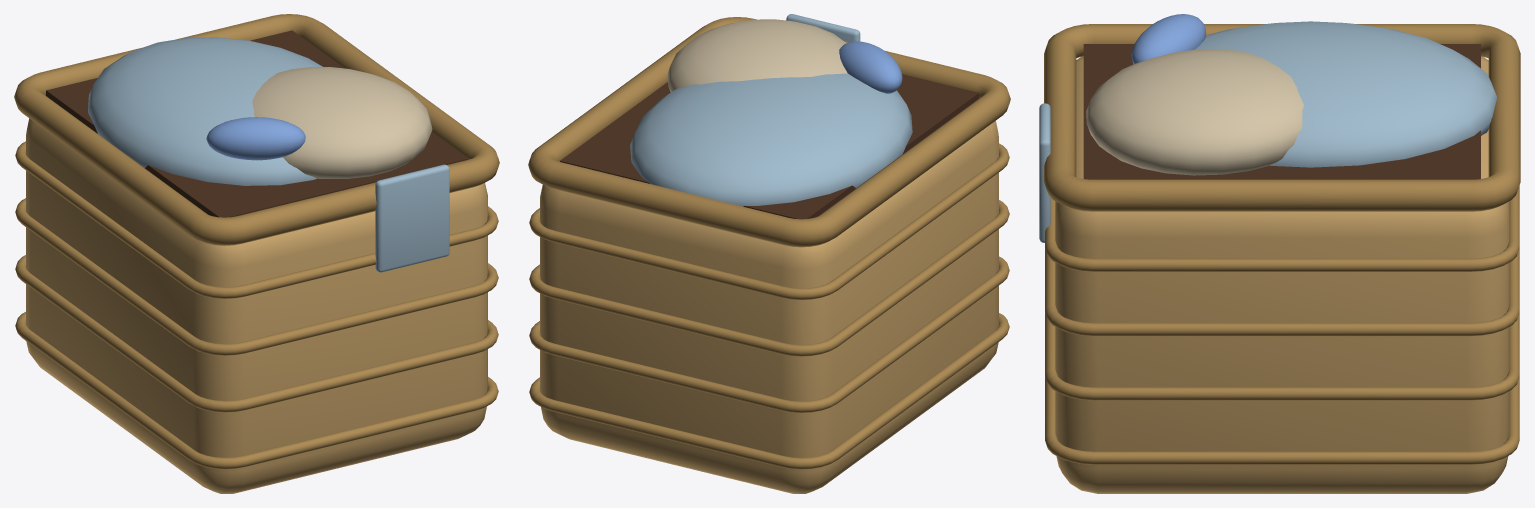
The model's file is laundry_basket.glb.
3 renders of one model, left to right at view 1: azimuth 30°, elevation 25°; view 2: azimuth 150°, elevation 25°; view 3: azimuth 270°, elevation 25°, orthographic. The views are drawn at different scales.
Visible parts, largest first — view 1: laundry_basket_body, laundry_basket_shirt, laundry_basket_rim, laundry_basket_towel, laundry_basket_inside, laundry_basket_sleeve, laundry_basket_rib.001, laundry_basket_rib.002, laundry_basket_rib, laundry_basket_rib.003, laundry_basket_sock; view 2: laundry_basket_body, laundry_basket_shirt, laundry_basket_rim, laundry_basket_towel, laundry_basket_inside, laundry_basket_rib, laundry_basket_rib.002, laundry_basket_rib.001, laundry_basket_rib.003, laundry_basket_sock, laundry_basket_sleeve; view 3: laundry_basket_body, laundry_basket_rim, laundry_basket_shirt, laundry_basket_towel, laundry_basket_inside, laundry_basket_rib, laundry_basket_rib.001, laundry_basket_rib.002, laundry_basket_rib.003, laundry_basket_sock, laundry_basket_sleeve.
Boxes of the visible parts, bbox=[...] form: laundry_basket_body: bbox=[26, 118, 487, 493]; laundry_basket_shirt: bbox=[88, 37, 322, 185]; laundry_basket_rim: bbox=[14, 14, 499, 245]; laundry_basket_towel: bbox=[252, 67, 432, 178]; laundry_basket_inside: bbox=[46, 30, 467, 217]; laundry_basket_sleeve: bbox=[375, 164, 449, 272]; laundry_basket_rib.001: bbox=[15, 255, 498, 412]; laundry_basket_rib.002: bbox=[15, 198, 498, 355]; laundry_basket_rib: bbox=[15, 312, 498, 469]; laundry_basket_rib.003: bbox=[15, 141, 498, 298]; laundry_basket_sock: bbox=[206, 117, 305, 160]; laundry_basket_body: bbox=[540, 120, 998, 493]; laundry_basket_shirt: bbox=[630, 73, 912, 206]; laundry_basket_rim: bbox=[528, 17, 1010, 247]; laundry_basket_towel: bbox=[667, 19, 847, 91]; laundry_basket_inside: bbox=[560, 74, 978, 219]; laundry_basket_rib: bbox=[529, 313, 1009, 469]; laundry_basket_rib.002: bbox=[529, 200, 1009, 356]; laundry_basket_rib.001: bbox=[529, 256, 1009, 412]; laundry_basket_rib.003: bbox=[529, 143, 1009, 299]; laundry_basket_sock: bbox=[839, 41, 902, 93]; laundry_basket_sleeve: bbox=[786, 14, 860, 42]; laundry_basket_body: bbox=[1055, 56, 1509, 493]; laundry_basket_rim: bbox=[1044, 24, 1520, 211]; laundry_basket_shirt: bbox=[1195, 21, 1497, 167]; laundry_basket_towel: bbox=[1086, 49, 1303, 175]; laundry_basket_inside: bbox=[1083, 44, 1480, 179]; laundry_basket_rib: bbox=[1045, 377, 1519, 464]; laundry_basket_rib.001: bbox=[1045, 312, 1519, 400]; laundry_basket_rib.002: bbox=[1045, 248, 1519, 336]; laundry_basket_rib.003: bbox=[1045, 186, 1519, 271]; laundry_basket_sock: bbox=[1131, 14, 1206, 64]; laundry_basket_sleeve: bbox=[1039, 103, 1050, 242].
Bounding box in the file's own units: 0.4239 × 0.44 × 0.509.
